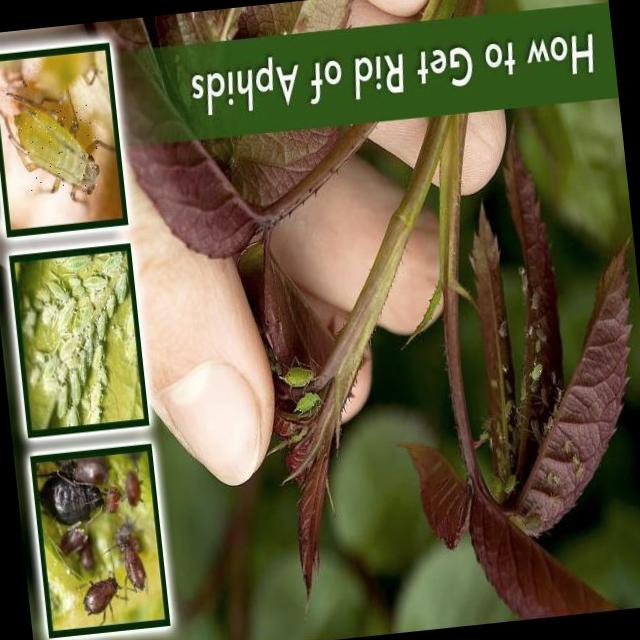aphid: (14, 109, 98, 191), (283, 367, 312, 388), (294, 392, 319, 413), (529, 363, 540, 381)
